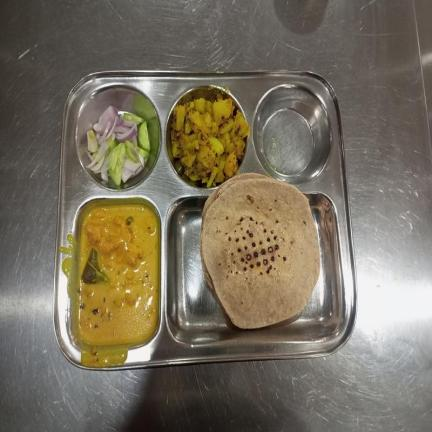Curry: (77, 204, 158, 342)
Plate: (53, 70, 358, 371)
Roti: (200, 173, 321, 330)
Salad: (86, 104, 151, 187)
Zeera Aalu: (170, 92, 251, 189)
